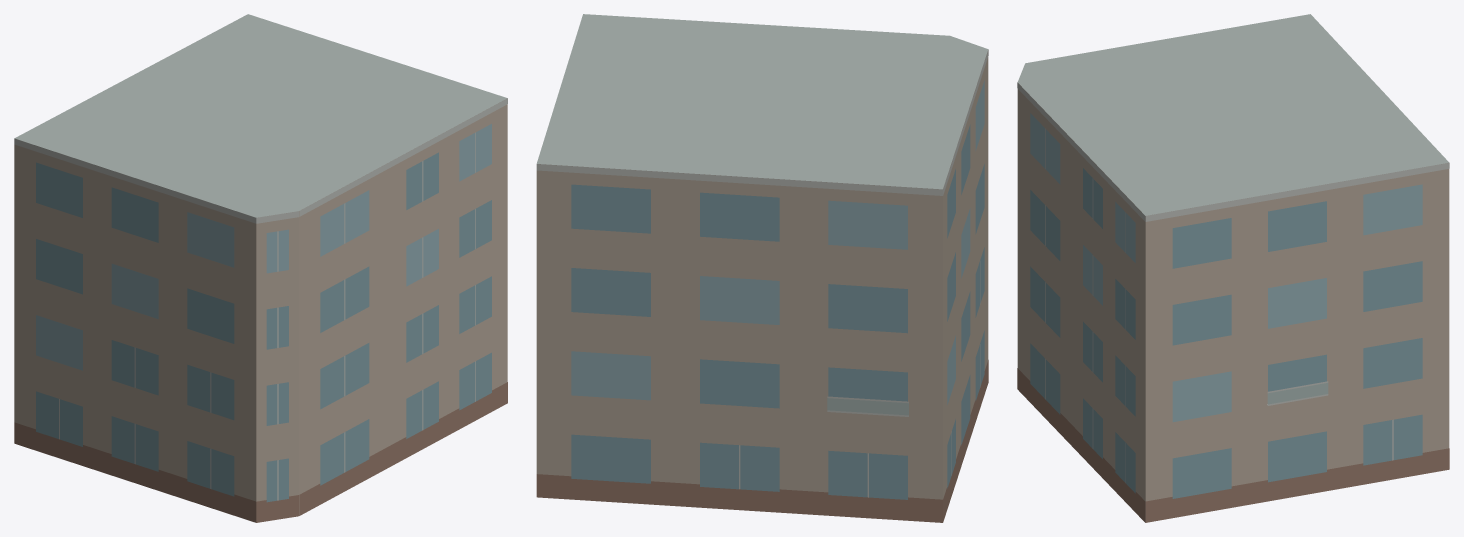
Rendered from survey-upis-32725073.glb.
The picture shows the model from 3 angles, left to right: view 1: azimuth 30°, elevation 25°; view 2: azimuth 150°, elevation 25°; view 3: azimuth 270°, elevation 25°; orthographic projection. The views are drawn at different scales.
Parts seen in each view (by area): view 1: survey-upis-32725073.tmp; view 2: survey-upis-32725073.tmp; view 3: survey-upis-32725073.tmp.
Boxes of the visible parts, x1,y1,x2,y2 form: survey-upis-32725073.tmp: (14, 14, 507, 522); survey-upis-32725073.tmp: (536, 14, 988, 522); survey-upis-32725073.tmp: (1017, 14, 1449, 522).
Bounding box in the file's own units: 17.36 × 12.3 × 15.7.
